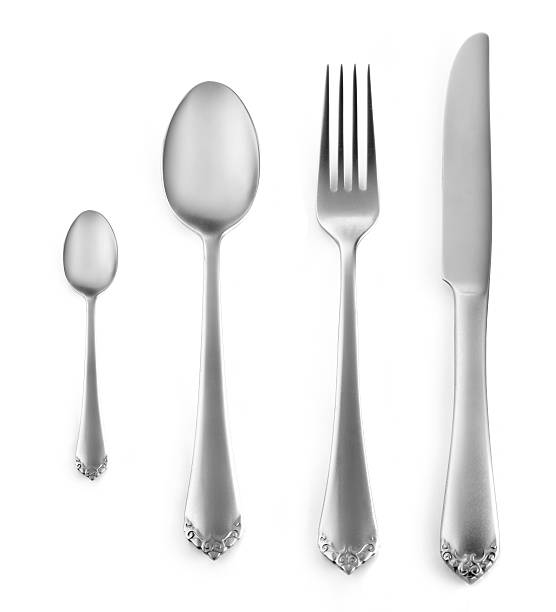k1: (434, 17, 505, 401)
